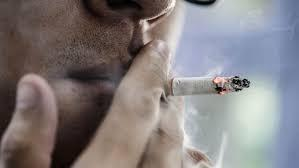smoke: (131, 76, 251, 98)
